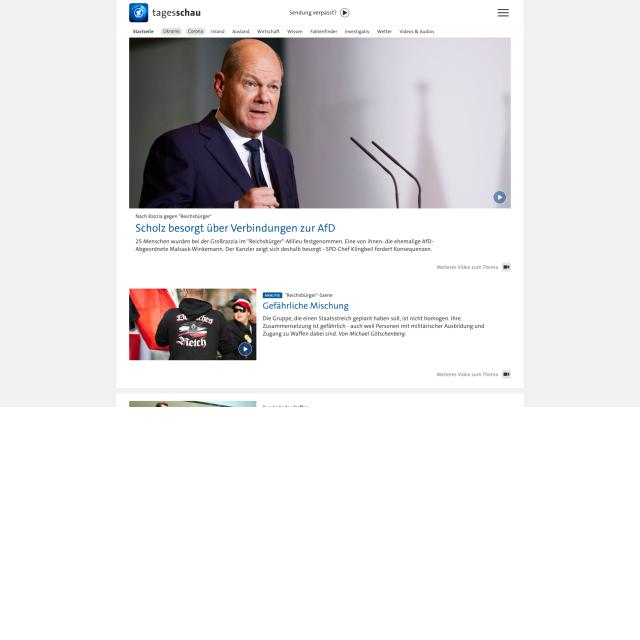logo: (128, 1, 205, 25)
navigation: (158, 28, 438, 36), (495, 5, 511, 19)
video: (128, 288, 257, 361), (492, 188, 508, 206)
